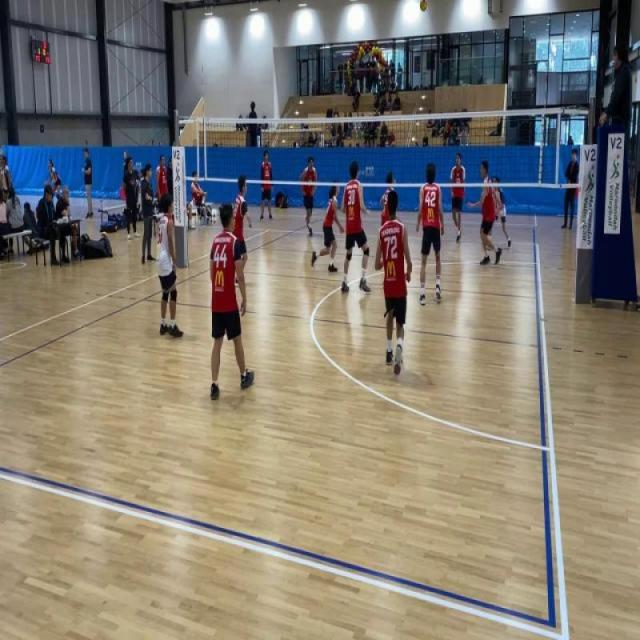volleyball: (420, 0, 428, 13), (100, 230, 108, 238)
